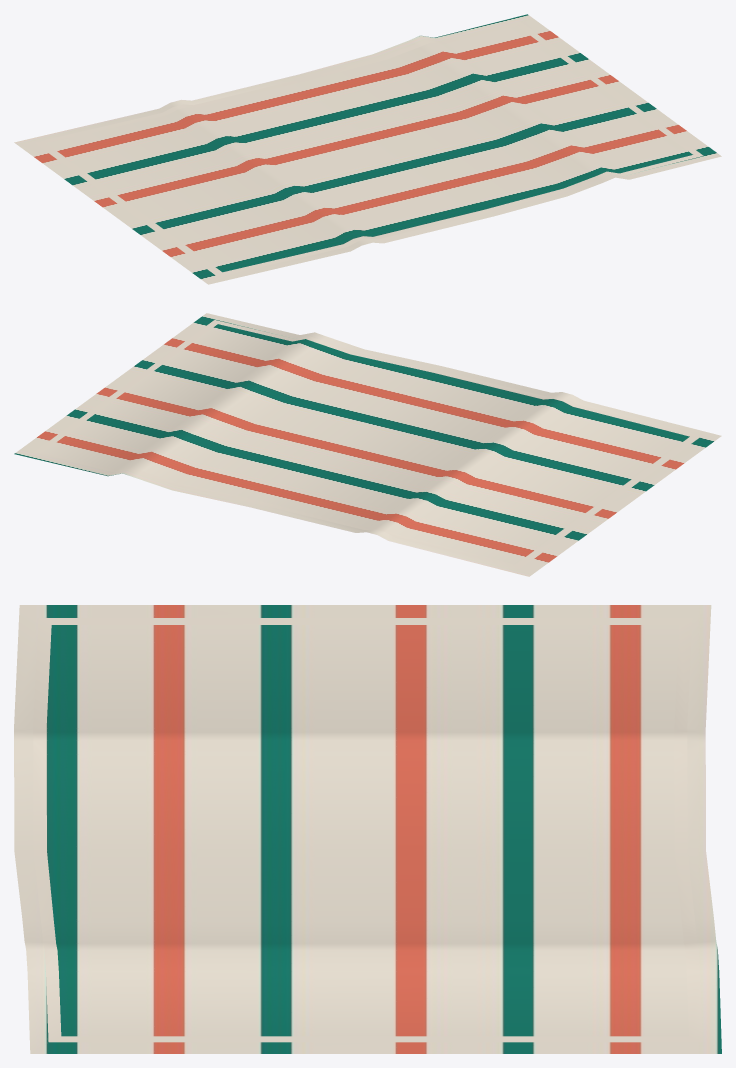
Rendered from rug_a.glb.
The picture shows the model from 3 angles, top to bottom: view 1: azimuth 30°, elevation 25°; view 2: azimuth 150°, elevation 25°; view 3: azimuth 270°, elevation 25°; orthographic projection. The views are drawn at different scales.
Parts seen in each view (by area): view 1: Carpet_1; view 2: Carpet_1; view 3: Carpet_1.
Part boxes in pixels (bbox=[...]): Carpet_1: bbox=[14, 14, 721, 284]; Carpet_1: bbox=[14, 313, 721, 576]; Carpet_1: bbox=[14, 605, 721, 1053].
Size of the model in its own units: 1.8 by 0.02 by 1.2.
2 materials, 1 textured.
